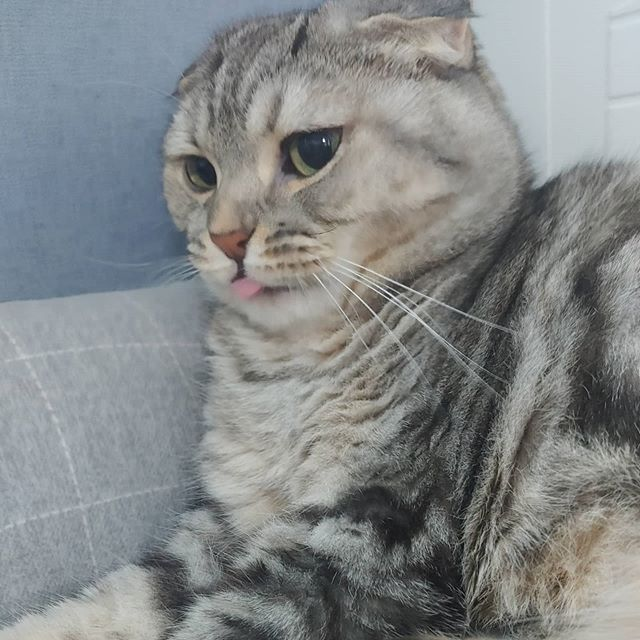cat: (161, 15, 482, 336)
